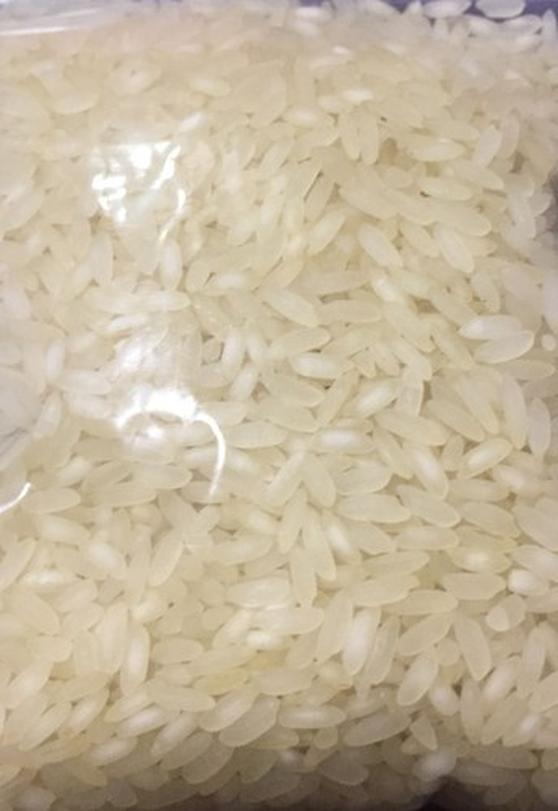rice: (210, 171, 521, 511)
